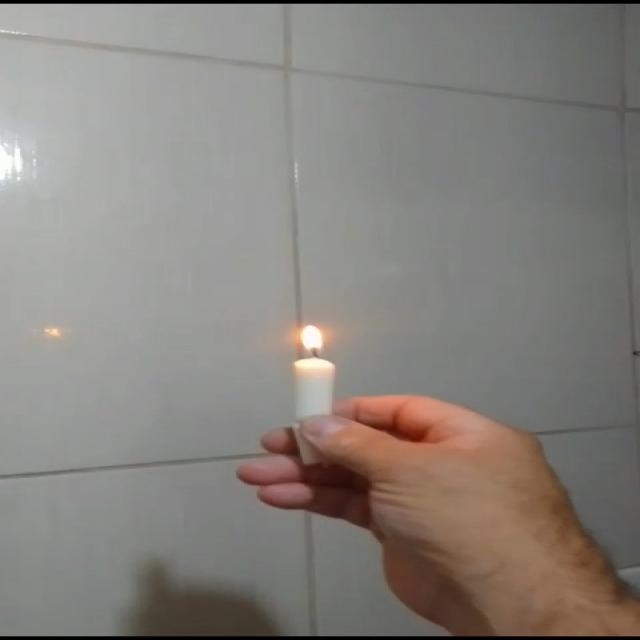fogo-ypXI: (294, 323, 329, 359)
